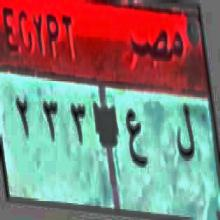2: (12, 84, 34, 140)
3: (69, 94, 93, 150), (40, 94, 62, 145)
ain: (123, 102, 151, 175)
laam: (174, 99, 196, 165)
